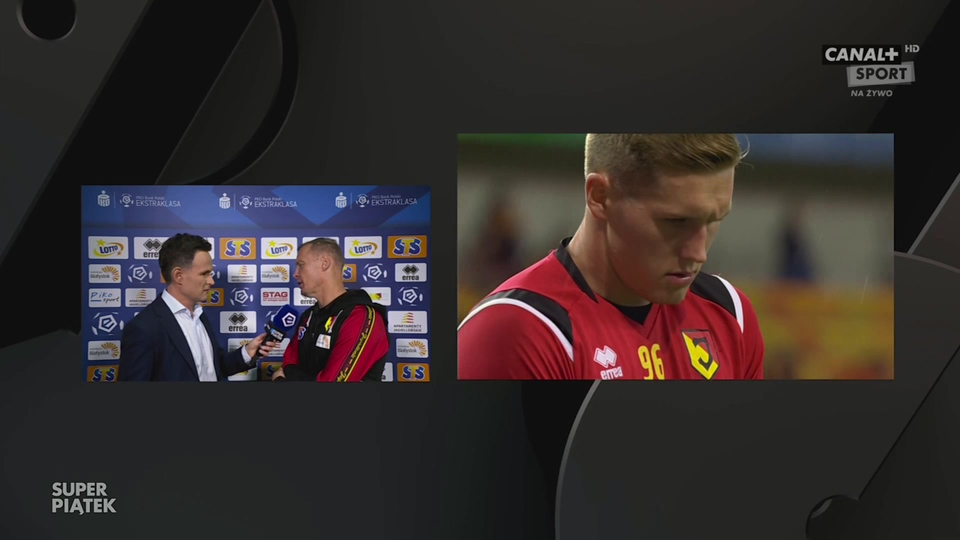pko: (333, 190, 350, 210), (96, 190, 111, 209), (216, 193, 231, 209)
